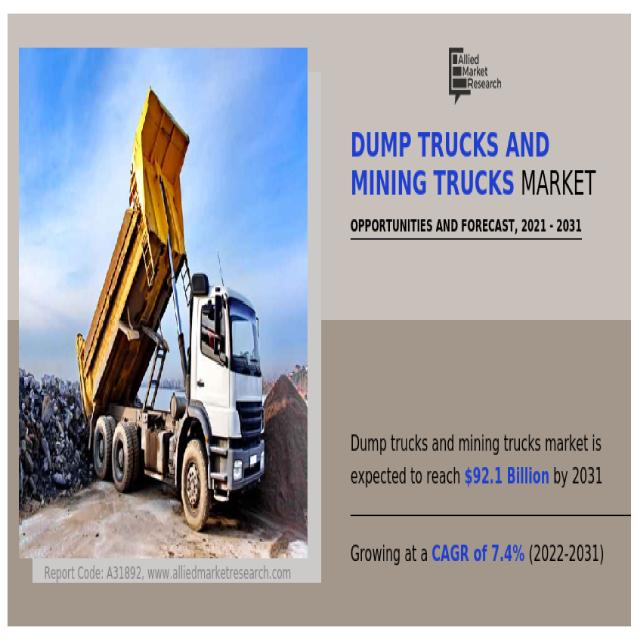truck: (76, 90, 265, 528)
